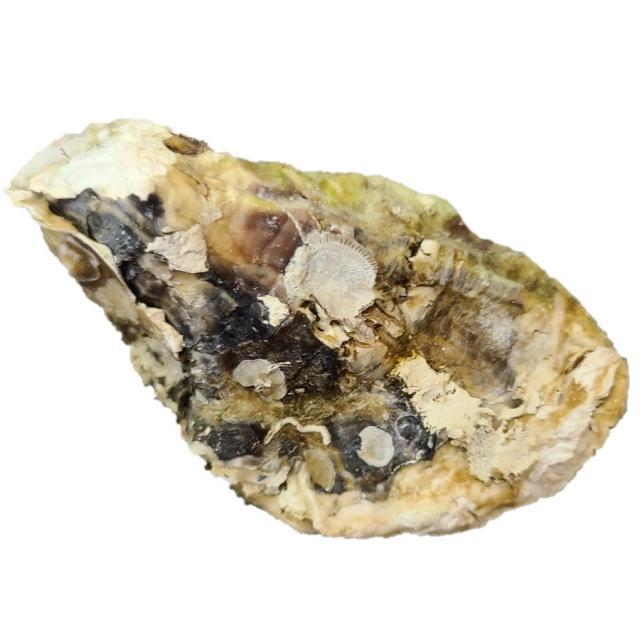Oyster- Indeterminate: (6, 118, 629, 542)
